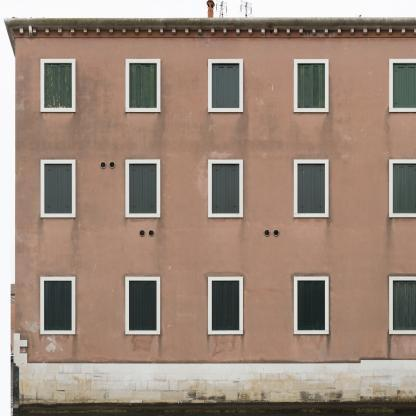Building Outline: (4, 17, 416, 412)
Facade: (3, 18, 415, 412)
Floor: (16, 154, 416, 263)
Floor Slab: (16, 264, 416, 271), (16, 147, 416, 154)
Ground Floor: (16, 271, 416, 413)
Molding: (15, 28, 416, 38)
Top Floor: (16, 38, 416, 147)
Window: (45, 281, 72, 330), (129, 281, 156, 330), (212, 281, 239, 330), (298, 281, 325, 330), (45, 164, 72, 213), (129, 164, 156, 213), (212, 164, 239, 213), (298, 164, 325, 213), (45, 63, 72, 108), (130, 63, 157, 108), (212, 63, 239, 108), (298, 63, 325, 108), (393, 281, 416, 330), (393, 164, 416, 213), (393, 63, 416, 108)
